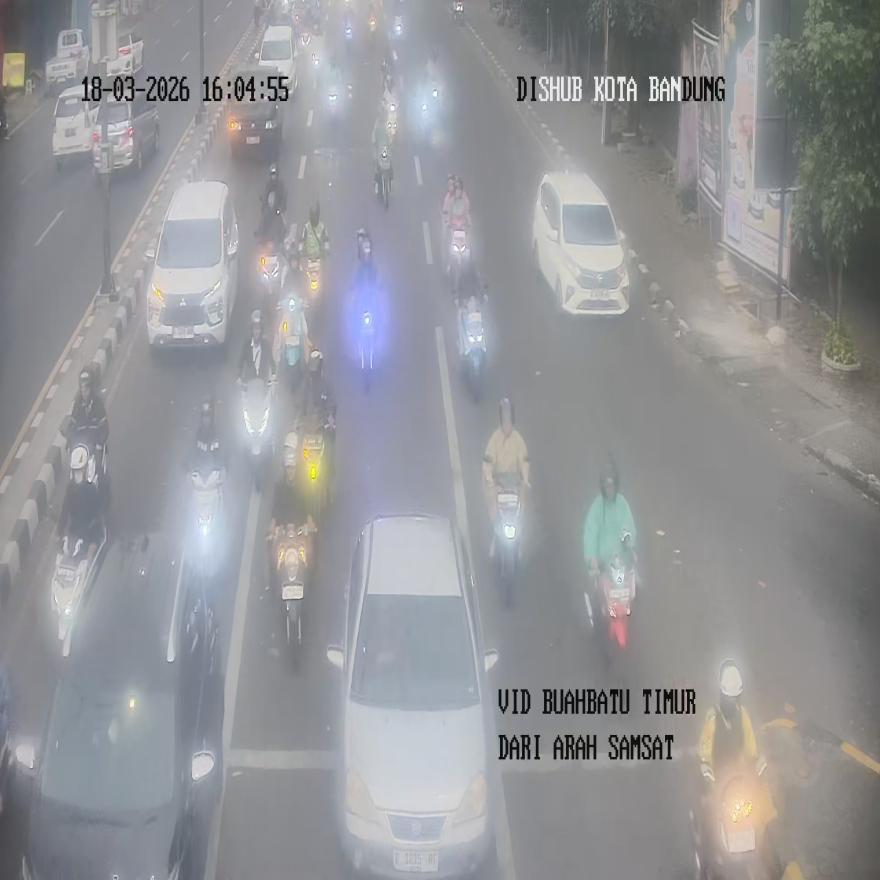Mobil: (14, 532, 221, 878), (326, 512, 499, 876), (146, 180, 239, 350), (532, 168, 629, 314), (92, 76, 160, 179), (227, 67, 285, 158)
Motor: (690, 756, 776, 879), (268, 517, 316, 670), (51, 524, 104, 657), (586, 532, 636, 666), (187, 454, 226, 578), (238, 368, 276, 492), (489, 483, 522, 606), (456, 292, 486, 400), (277, 292, 309, 389), (446, 220, 470, 297), (257, 243, 284, 309), (356, 307, 376, 390), (374, 145, 393, 209), (343, 18, 353, 55), (368, 15, 378, 44), (451, 0, 462, 24)
